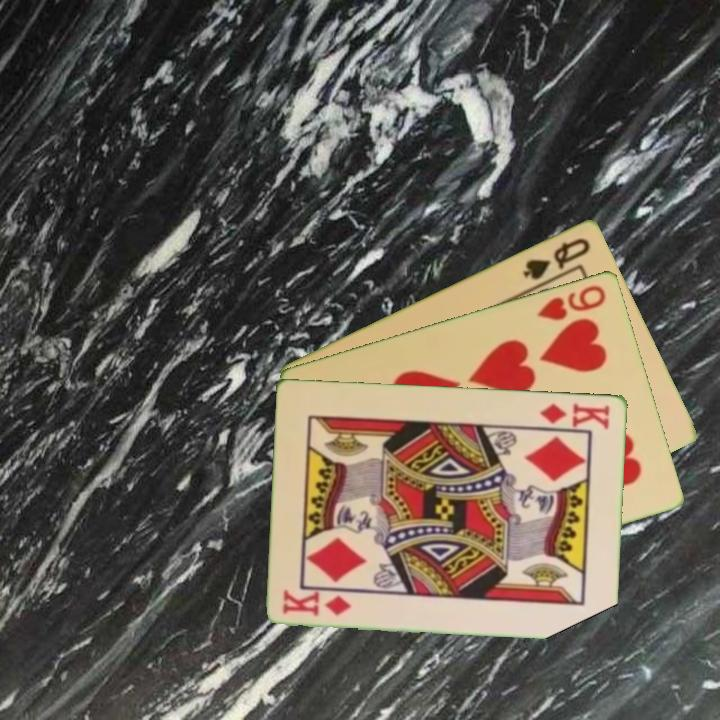9h: (534, 281, 609, 323)
Kd: (537, 399, 613, 432), (280, 587, 354, 618)
Qs: (519, 233, 594, 282)
